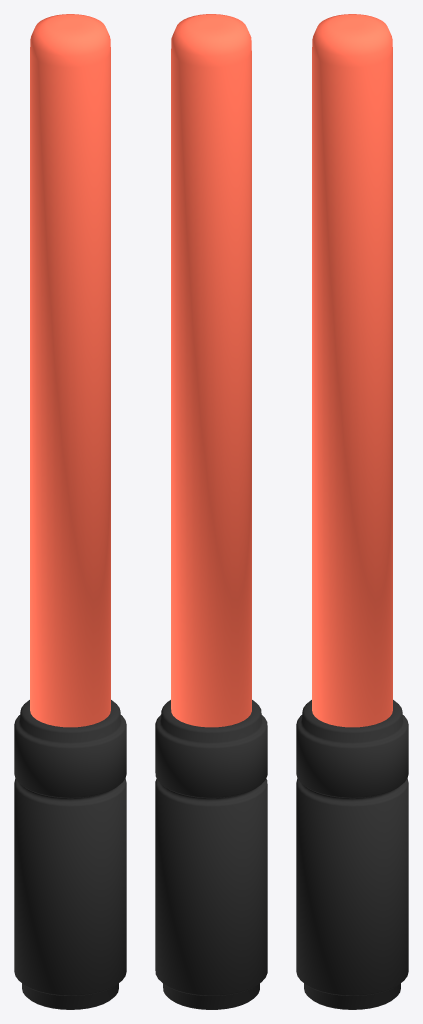
The model's file is rsaber.glb.
3 views of the same model, side by side, from view 1: azimuth 90°, elevation 25°; view 2: azimuth 210°, elevation 25°; view 3: azimuth 270°, elevation 25° (orthographic).
Parts seen in each view (by area): view 1: Cylinder.001, Cylinder; view 2: Cylinder.001, Cylinder; view 3: Cylinder.001, Cylinder.
Boxes of the visible parts, box(x1,y1,x2,y2) form: Cylinder.001: box(30, 14, 110, 727); Cylinder: box(14, 700, 126, 1009); Cylinder.001: box(171, 14, 251, 727); Cylinder: box(155, 700, 267, 1009); Cylinder.001: box(312, 14, 392, 727); Cylinder: box(296, 700, 408, 1009).
Size of the model in its own units: 0.3475 by 3.31 by 0.3475.
